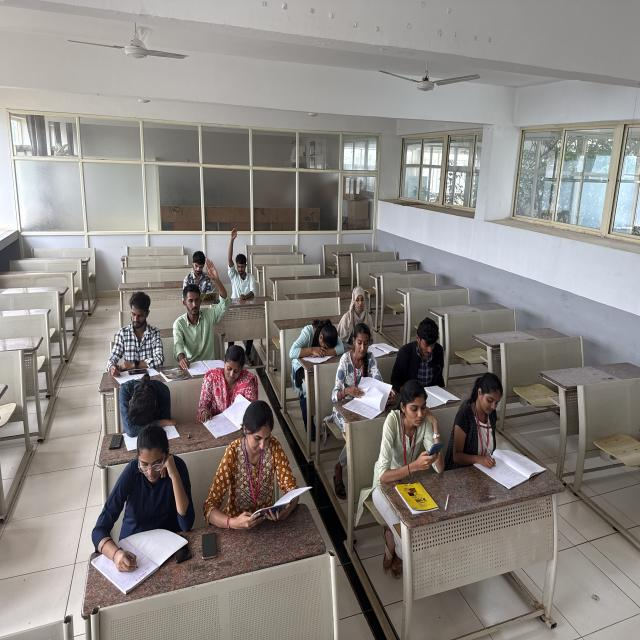Hand Rising: (173, 256, 228, 362), (225, 225, 258, 303)
Reading: (203, 399, 313, 531), (330, 320, 392, 423), (194, 342, 256, 443), (398, 318, 458, 406), (344, 282, 399, 353), (185, 250, 217, 300)
Sleeping: (107, 368, 176, 442), (287, 312, 346, 378)
Using Phone: (377, 371, 448, 499)
Writing: (87, 420, 197, 590), (447, 367, 529, 492), (102, 290, 164, 387)
